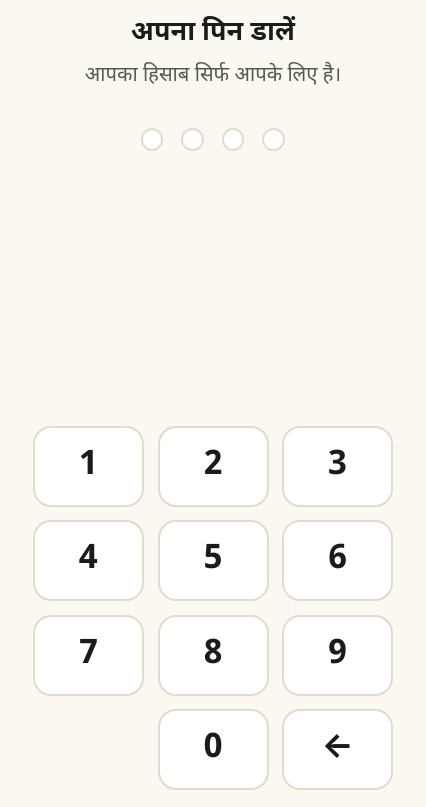
Scenario: when something breaks › says so instead of showing a blank screen
The image size is (426, 807).
expect the heading "अपना पिन डालें" is shown: met, box [131,16,295,52]
Click the button "1" at (88, 466), box [33,426,144,506]
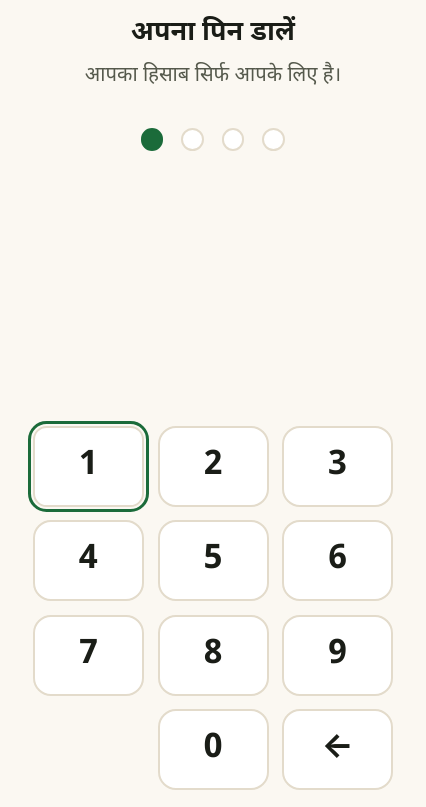
Click the button "2" at (213, 466), box [158,426,268,506]
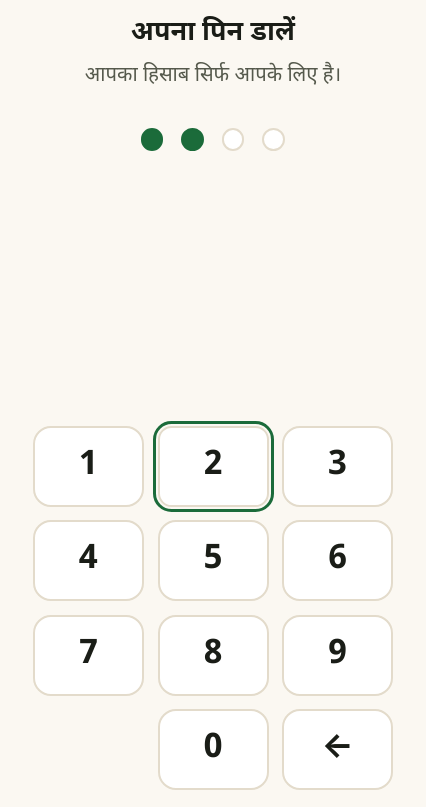
Click the button "3" at (338, 466), box [282,426,393,506]
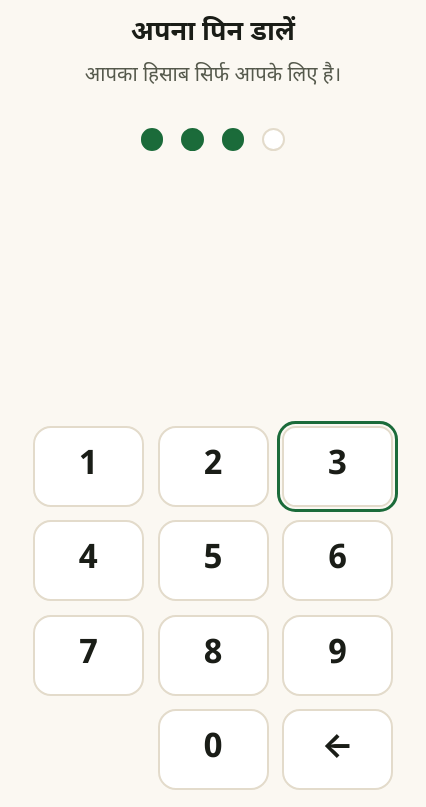
Click the button "4" at (88, 560), box [33,520,144,601]
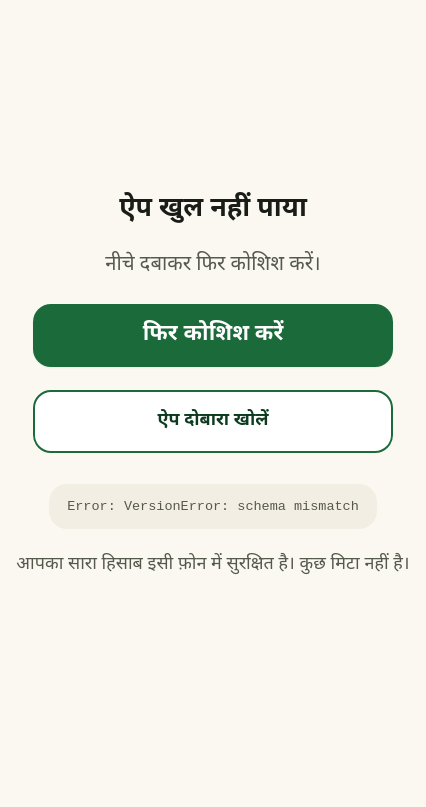
expect the heading "ऐप खुल नहीं पाया" is shown: met, box [119,192,307,228]
expect the text "Error: VersionError: schema mismatch" is shown: met, box [49,484,377,529]
expect the text "आपका सारा हिसाब इसी फ़ोन में सुरक्षित है। कुछ मिटा नहीं है।" is shown: met, box [16,552,410,578]
